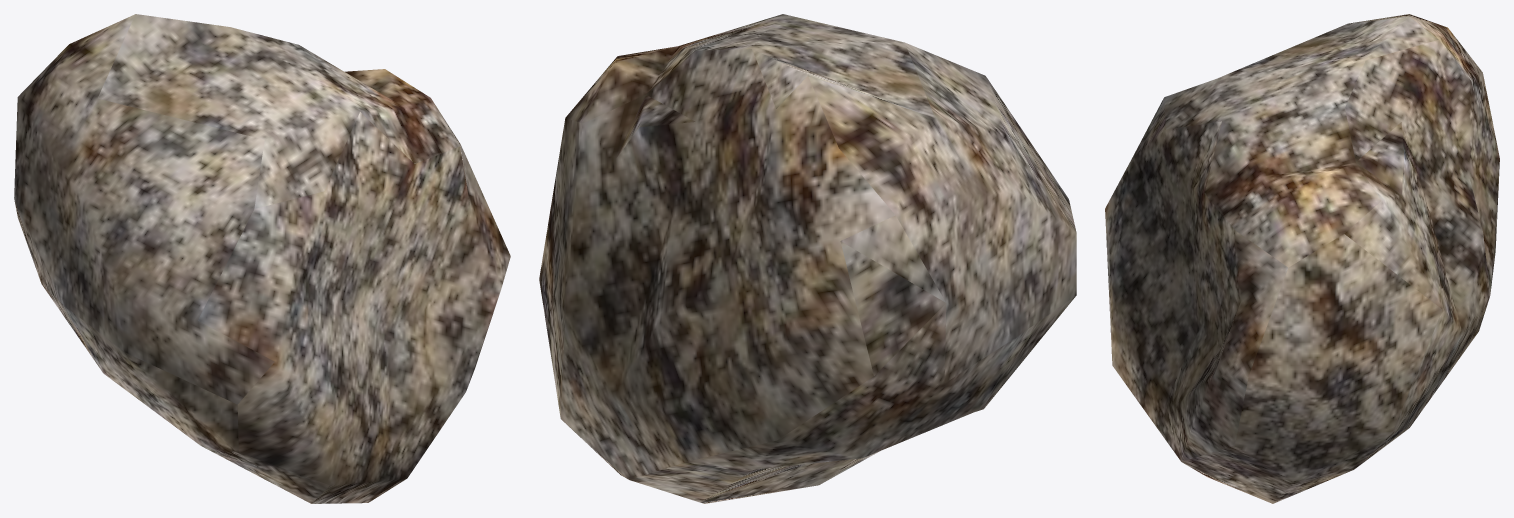
The model's file is rock.glb.
3 views of the same model, side by side, from view 1: azimuth 30°, elevation 25°; view 2: azimuth 150°, elevation 25°; view 3: azimuth 270°, elevation 25° (orthographic). The views are drawn at different scales.
Parts seen in each view (by area): view 1: rock020_lod4; view 2: rock020_lod4; view 3: rock020_lod4.
Boxes of the visible parts, <box> form: rock020_lod4: <box>14,14,510,503</box>; rock020_lod4: <box>539,14,1076,503</box>; rock020_lod4: <box>1105,14,1499,503</box>.
Size of the model in its own units: 1 by 1.05 by 0.9064.
Materials: 1 (1 with a texture image).
